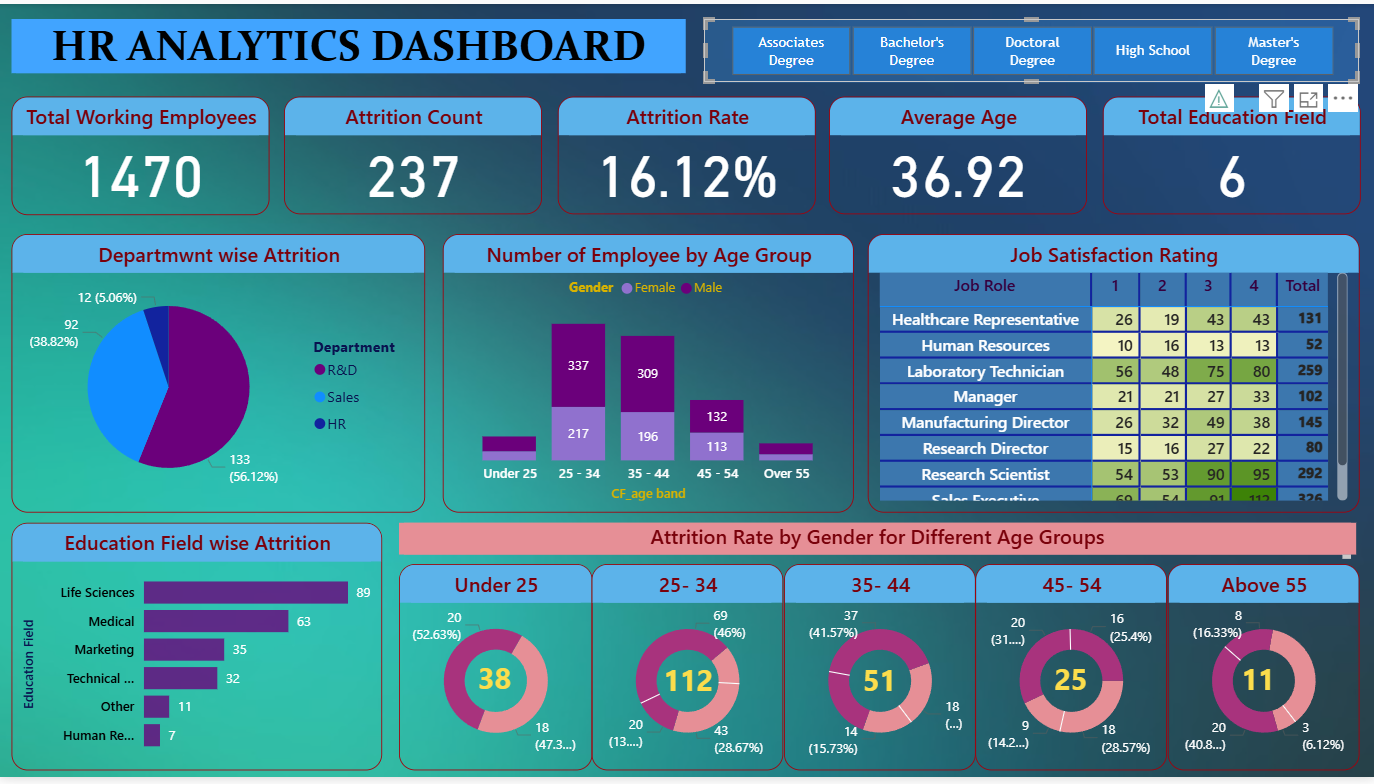

What the dashboard file says about the page in this screenshot:
{"tool":"powerbi","page":{"name":"Page 1","canvas":[1280,720],"ordinal":0},"visuals":[{"type":"card","title":"Total Working Employees","fields":{"Values":["Sum(HR data.Employee Count)"]},"box":[12.1,85.7,240,110],"z":0},{"type":"card","title":"Attrition Count","fields":{"Values":["Sum(HR data.Attrition Count)"]},"box":[265.4,85.7,240.1,109.8],"z":1000},{"type":"card","title":"Attrition Rate","fields":{"Values":["HR data.Attrition Rate"]},"box":[520,85.7,240.1,109.8],"z":2000},{"type":"card","title":"Average Age","fields":{"Values":["Avg(HR data.Age)"]},"box":[772.1,85.7,240.1,109.8],"z":3000},{"type":"card","title":"Total Education Field","fields":{"Values":["Count(HR data.Education Field)"]},"box":[1026.7,85.7,240.1,109.8],"z":4000},{"type":"pieChart","title":"Departmwnt wise Attrition","fields":{"Category":["HR data.Department"],"Y":["Sum(HR data.Attrition Count)"]},"box":[12.1,213.5,384.9,259.4],"z":5000},{"type":"pivotTable","title":"Job Satisfaction Rating","fields":{"Rows":["HR data.Job Role"],"Columns":["HR data.Job Satisfaction"],"Values":["Sum(HR data.Employee Count)"]},"box":[808.3,213.5,457.2,259.4],"z":6000},{"type":"barChart","title":"Education Field wise Attrition","fields":{"Category":["HR data.Education Field"],"Y":["Sum(HR data.Attrition Count)"]},"box":[12,483,345,230],"z":7000},{"type":"columnChart","title":"Number of Employee by Age Group","fields":{"Category":["HR data.CF_age band"],"Y":["Sum(HR data.Employee Count)"],"Series":["HR data.Gender"]},"box":[412.6,213.5,382.4,259.4],"z":8000},{"type":"donutChart","title":"Under 25","fields":{"Category":["HR data.Gender"],"Y":["Sum(HR data.Attrition Count)"],"Series":["HR data.CF_age band"]},"box":[371.9,521.4,179.8,192.1],"z":9000},{"type":"textbox","title":"Attrition Rate by Gender for Different Age Groups","box":[371.6,482.6,890.4,38.6],"z":10000},{"type":"donutChart","title":"25- 34","fields":{"Category":["HR data.Gender"],"Y":["Sum(HR data.Attrition Count)"],"Series":["HR data.CF_age band"]},"box":[551.6,521.4,178.4,192.1],"z":11000},{"type":"donutChart","title":"35- 44","fields":{"Category":["HR data.Gender"],"Y":["Sum(HR data.Attrition Count)"],"Series":["HR data.CF_age band"]},"box":[730,521.4,178.4,192.1],"z":12000},{"type":"donutChart","title":"45- 54","fields":{"Category":["HR data.Gender"],"Y":["Sum(HR data.Attrition Count)"],"Series":["HR data.CF_age band"]},"box":[908.4,521.4,178.4,192.1],"z":13000},{"type":"donutChart","title":"Above 55","fields":{"Category":["HR data.Gender"],"Y":["Sum(HR data.Attrition Count)"],"Series":["HR data.CF_age band"]},"box":[1086.8,521.4,178.4,192.1],"z":14000},{"type":"card","fields":{"Values":["Sum(HR data.Attrition Count)"]},"box":[437.7,607.9,48,39.8],"z":15000},{"type":"card","fields":{"Values":["Sum(HR data.Attrition Count)"]},"box":[606.5,609.3,68.6,41.2],"z":16000},{"type":"card","fields":{"Values":["Sum(HR data.Attrition Count)"]},"box":[795.9,610.6,48,39.8],"z":17000},{"type":"card","fields":{"Values":["Sum(HR data.Attrition Count)"]},"box":[972.9,609.3,48,39.8],"z":18000},{"type":"card","fields":{"Values":["Sum(HR data.Attrition Count)"]},"box":[1145.8,609.3,52.1,39.8],"z":19000},{"type":"textbox","title":"HR ANALYTICS DASHBOARD","box":[12.1,14.5,627.3,50.7],"z":20000},{"type":"slicer","fields":{"Values":["HR data.Education"]},"box":[656.3,14.5,609.3,59.1],"z":21000}]}

Visuals, with their boxes in screenshot pixels (x1, y1, x2, y2), scaled from the page's 1280x720 canvas onto the 1374x784 screenshot:
"Total Working Employees" card: <region>13, 93, 271, 213</region>
"Attrition Count" card: <region>285, 93, 543, 213</region>
"Attrition Rate" card: <region>558, 93, 816, 213</region>
"Average Age" card: <region>829, 93, 1087, 213</region>
"Total Education Field" card: <region>1102, 93, 1360, 213</region>
"Departmwnt wise Attrition" pieChart: <region>13, 232, 426, 515</region>
"Job Satisfaction Rating" pivotTable: <region>868, 232, 1358, 515</region>
"Education Field wise Attrition" barChart: <region>13, 526, 383, 776</region>
"Number of Employee by Age Group" columnChart: <region>443, 232, 853, 515</region>
"Under 25" donutChart: <region>399, 568, 592, 777</region>
"Attrition Rate by Gender for Different Age Groups" textbox: <region>399, 525, 1355, 568</region>
"25- 34" donutChart: <region>592, 568, 784, 777</region>
"35- 44" donutChart: <region>784, 568, 975, 777</region>
"45- 54" donutChart: <region>975, 568, 1167, 777</region>
"Above 55" donutChart: <region>1167, 568, 1358, 777</region>
card - Sum(HR data.Attrition Count): <region>470, 662, 521, 705</region>
card - Sum(HR data.Attrition Count): <region>651, 663, 725, 708</region>
card - Sum(HR data.Attrition Count): <region>854, 665, 906, 708</region>
card - Sum(HR data.Attrition Count): <region>1044, 663, 1096, 707</region>
card - Sum(HR data.Attrition Count): <region>1230, 663, 1286, 707</region>
"HR ANALYTICS DASHBOARD" textbox: <region>13, 16, 686, 71</region>
slicer - HR data.Education: <region>704, 16, 1359, 80</region>
